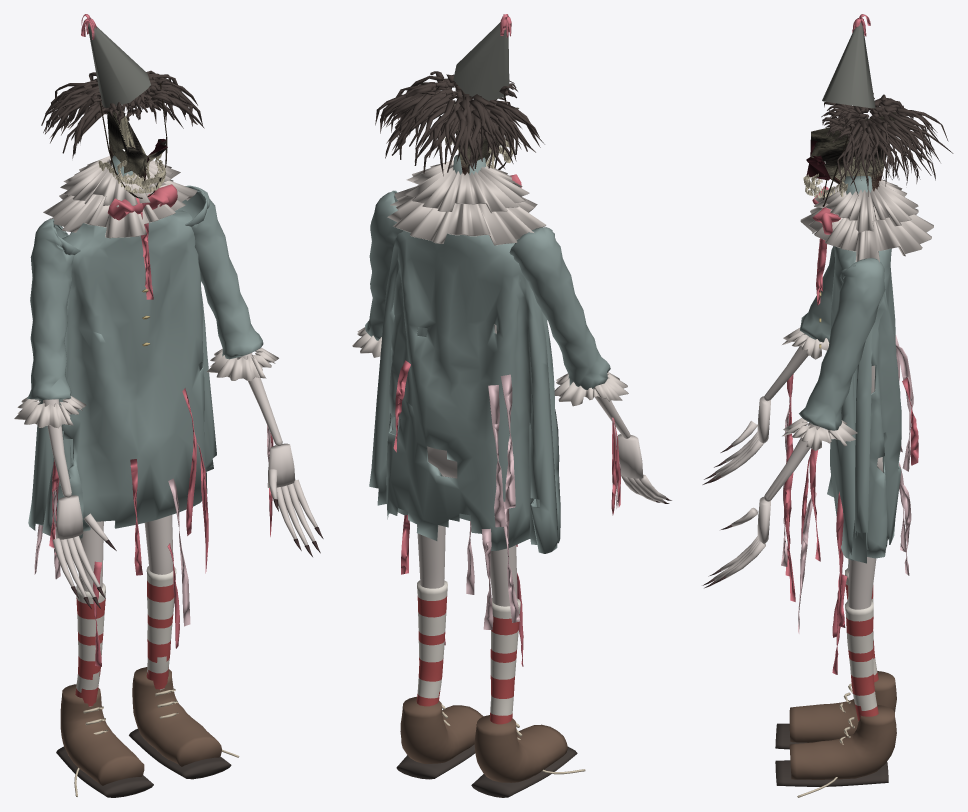
The model's file is party-zombie-b.glb.
The picture shows the model from 3 angles, left to right: view 1: azimuth 30°, elevation 25°; view 2: azimuth 150°, elevation 25°; view 3: azimuth 270°, elevation 25°; orthographic projection. The views are drawn at different scales.
Parts seen in each view (by area): view 1: Torso, ArmL, HeadMesh, ArmR, LegR, LegL; view 2: Torso, HeadMesh, ArmL, LegL, LegR, ArmR; view 3: Torso, HeadMesh, ArmR, LegR, ArmL, LegL.
Boxes of the visible parts, left/top/right/bottom form: Torso: left=28, top=155, right=216, bottom=626; ArmL: left=14, top=218, right=116, bottom=608; HeadMesh: left=41, top=14, right=204, bottom=198; ArmR: left=176, top=185, right=323, bottom=556; LegR: left=129, top=515, right=239, bottom=779; LegL: left=56, top=521, right=153, bottom=797; Torso: left=369, top=154, right=560, bottom=629; HeadMesh: left=375, top=14, right=544, bottom=176; ArmL: left=509, top=227, right=671, bottom=515; LegL: left=471, top=545, right=585, bottom=797; LegR: left=396, top=524, right=483, bottom=779; ArmR: left=352, top=190, right=403, bottom=357; Torso: left=798, top=176, right=933, bottom=633; HeadMesh: left=803, top=14, right=953, bottom=206; ArmR: left=702, top=258, right=885, bottom=601; LegR: left=775, top=557, right=896, bottom=797; ArmL: left=702, top=246, right=834, bottom=484; LegL: left=775, top=549, right=896, bottom=749.
Size of the model in its own units: 0.8138 by 2.23 by 0.7005.
Materials: 22 (2 with a texture image).
